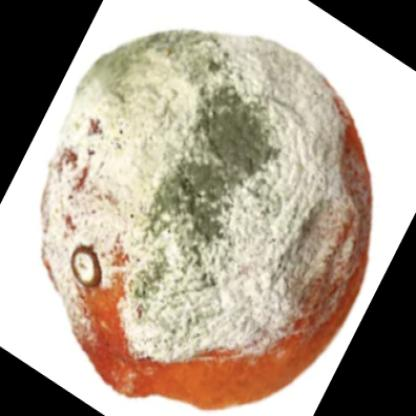rotten: (41, 32, 371, 415)
